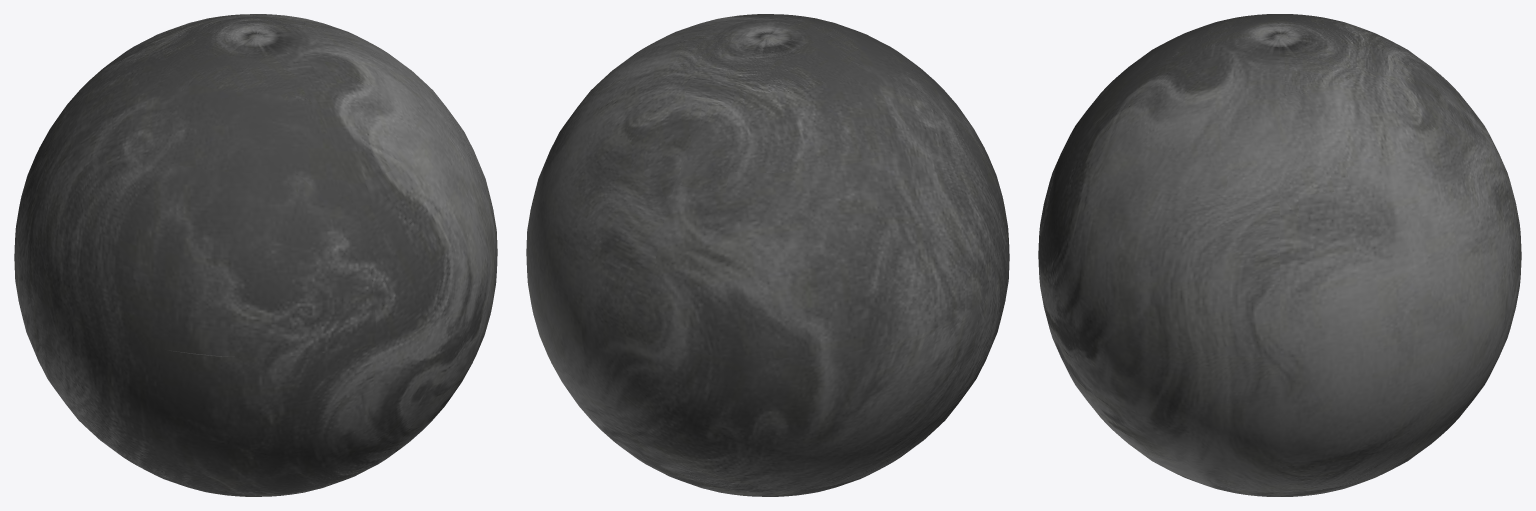
File: yin-yang+sphere+3d+model_black.glb
3 renders of one model, left to right at view 1: azimuth 30°, elevation 25°; view 2: azimuth 150°, elevation 25°; view 3: azimuth 270°, elevation 25°, orthographic.
Parts seen in each view (by area): view 1: tripo_node_fcd5609c-ce5b-4f97-9109-d2a3a81784d3; view 2: tripo_node_fcd5609c-ce5b-4f97-9109-d2a3a81784d3; view 3: tripo_node_fcd5609c-ce5b-4f97-9109-d2a3a81784d3.
Part boxes in pixels (x1=…): tripo_node_fcd5609c-ce5b-4f97-9109-d2a3a81784d3: x1=14, y1=14, x2=497, y2=496; tripo_node_fcd5609c-ce5b-4f97-9109-d2a3a81784d3: x1=526, y1=14, x2=1009, y2=496; tripo_node_fcd5609c-ce5b-4f97-9109-d2a3a81784d3: x1=1038, y1=14, x2=1521, y2=496.
Bounding box in the file's own units: 0.998 × 0.998 × 0.998.
1 material, 1 textured.
